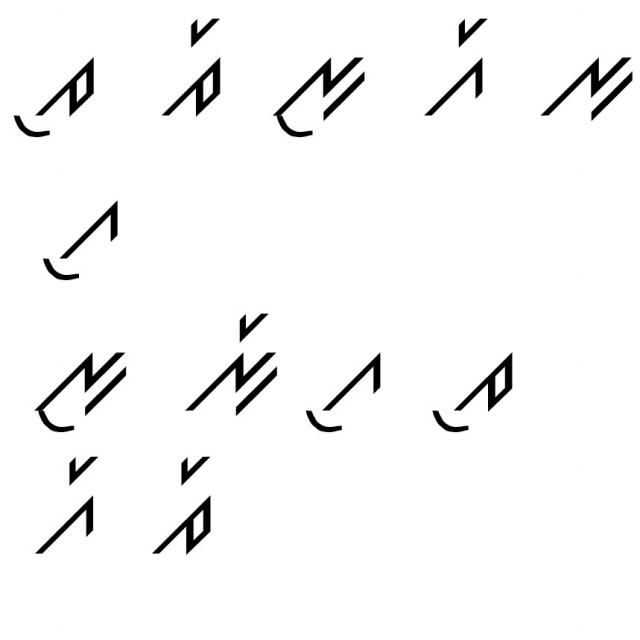gar: (418, 10, 497, 121), (23, 454, 103, 556)
gaw: (295, 343, 392, 441), (35, 192, 127, 284)
nga: (527, 42, 639, 124)
ngar: (180, 305, 284, 419)
ngaw: (260, 42, 379, 153), (23, 339, 136, 440)
tar: (160, 15, 236, 127), (152, 450, 224, 556)
taw: (5, 41, 101, 148), (422, 346, 521, 440)
